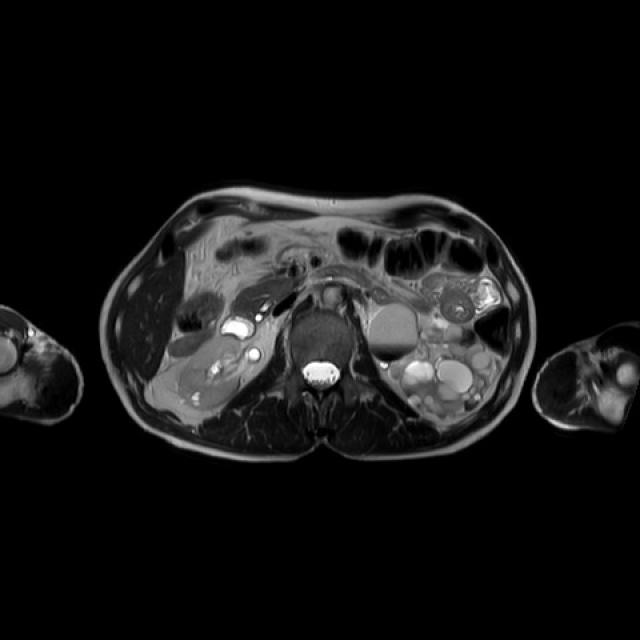sag: (179, 337, 262, 407)
sol: (371, 303, 498, 419)
